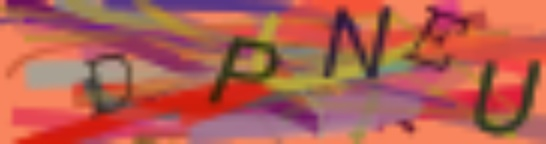D: (80, 48, 142, 120)
E: (399, 5, 473, 73)
N: (315, 1, 397, 85)
P: (204, 33, 283, 106)
U: (470, 55, 541, 138)
